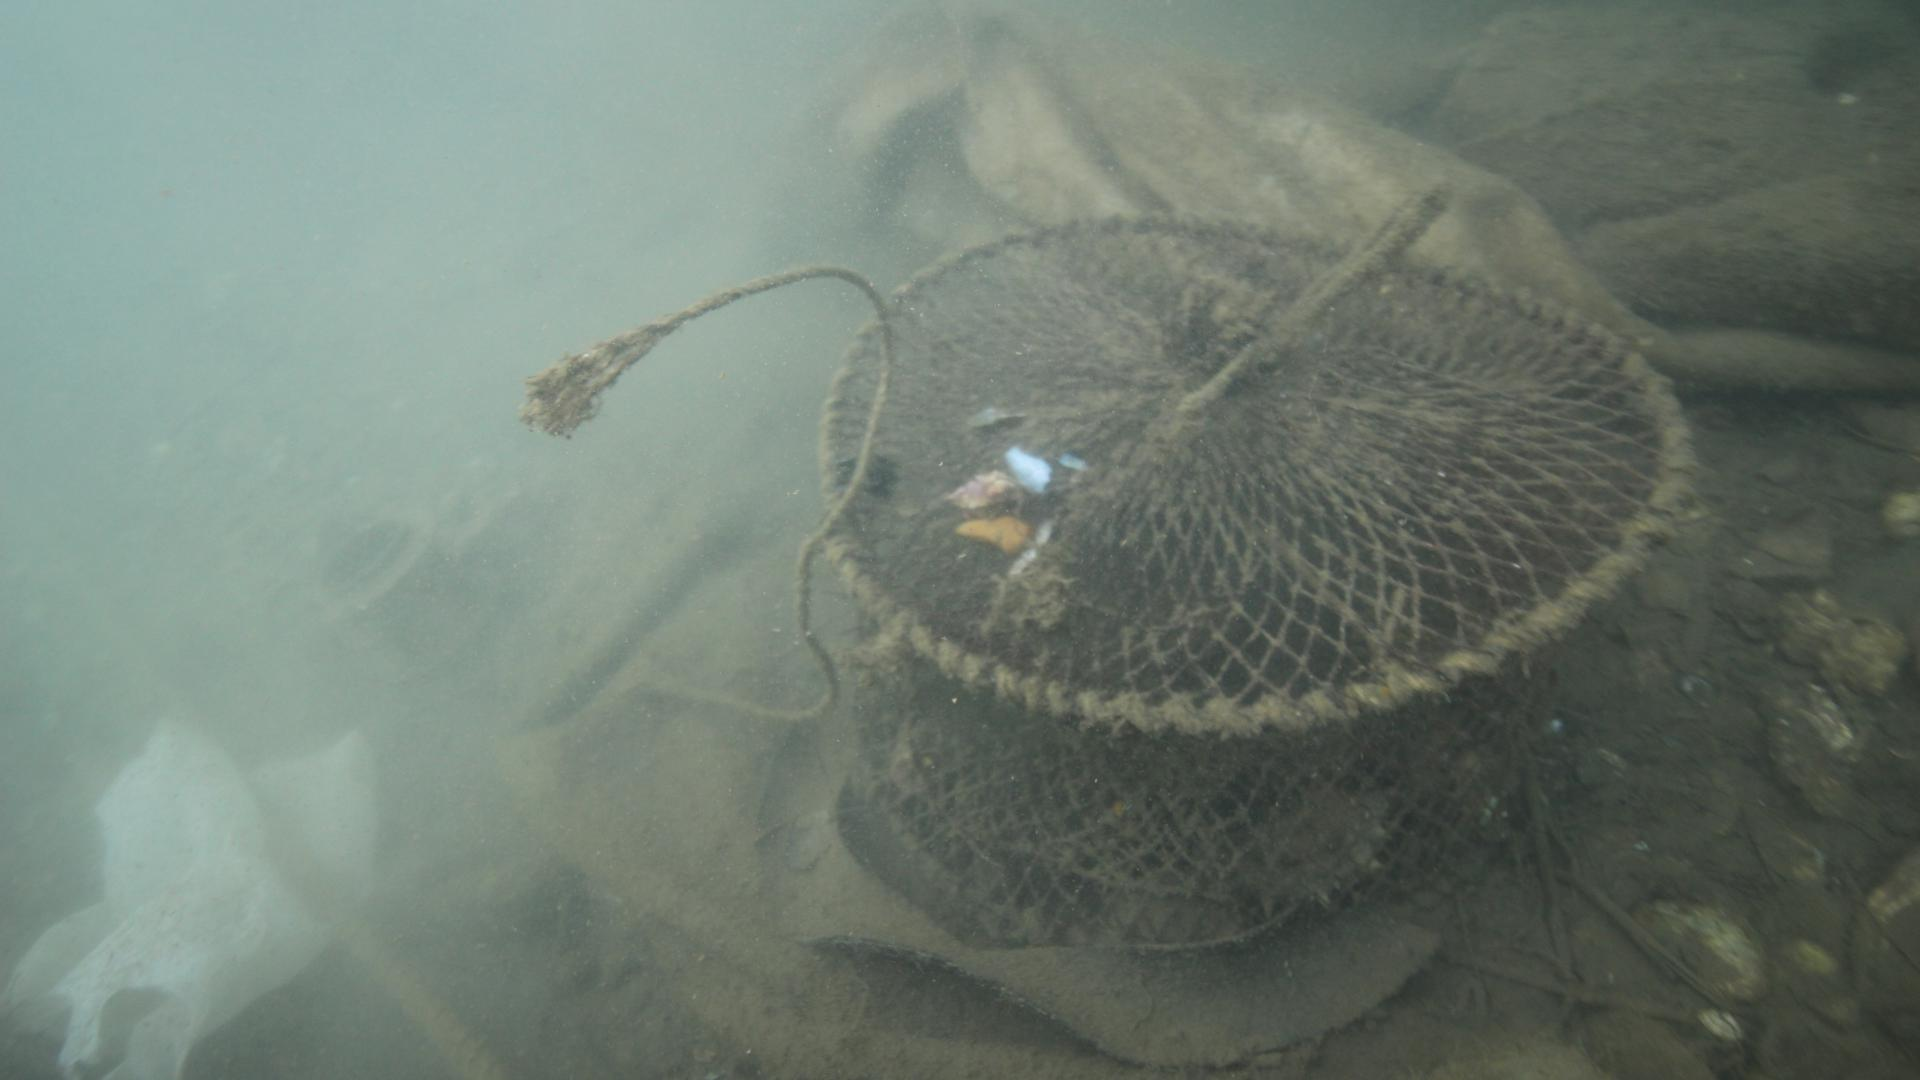circular fish trap: (818, 208, 1702, 952)
rope: (688, 255, 898, 727)
